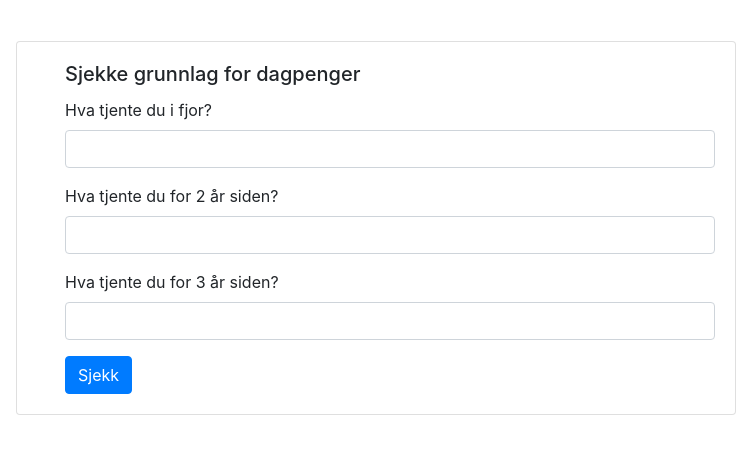
Test case: test user interaction when typing wrong value
In the field labelled "Hva tjente du i fjor?": (390, 149) [65,130,715,168], type "f"
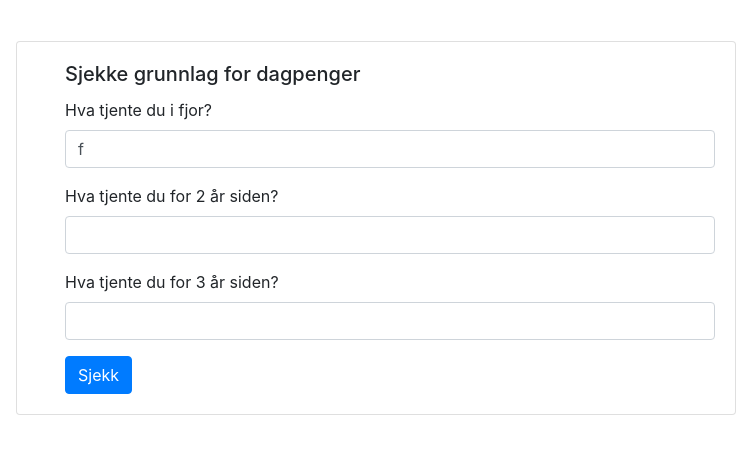
In the field labelled "Hva tjente du for 3 år siden?": (390, 321) [65,302,715,340], type "1"
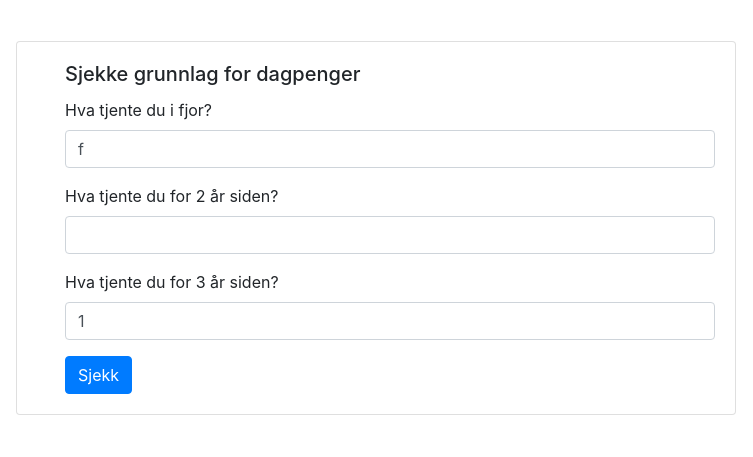
Click the button "Sjekk": (98, 375) [65,356,132,394]
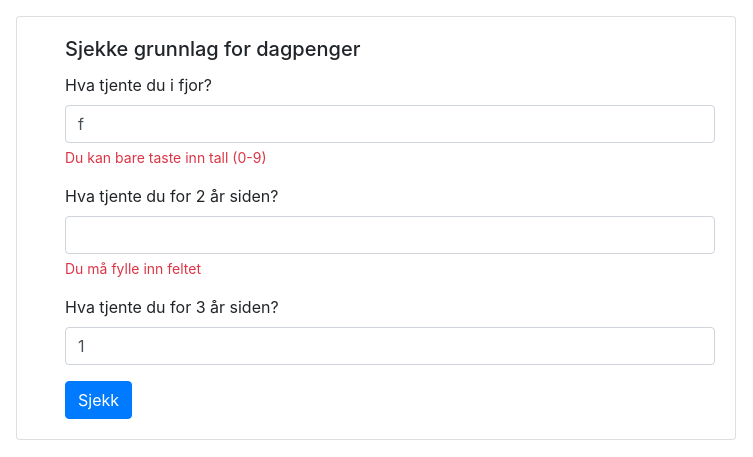
Result: the text "Du må fylle inn feltet" is shown at [65,260,201,277]
Result: the text "Du kan bare taste inn tall (0-9)" is shown at [65,149,266,166]
